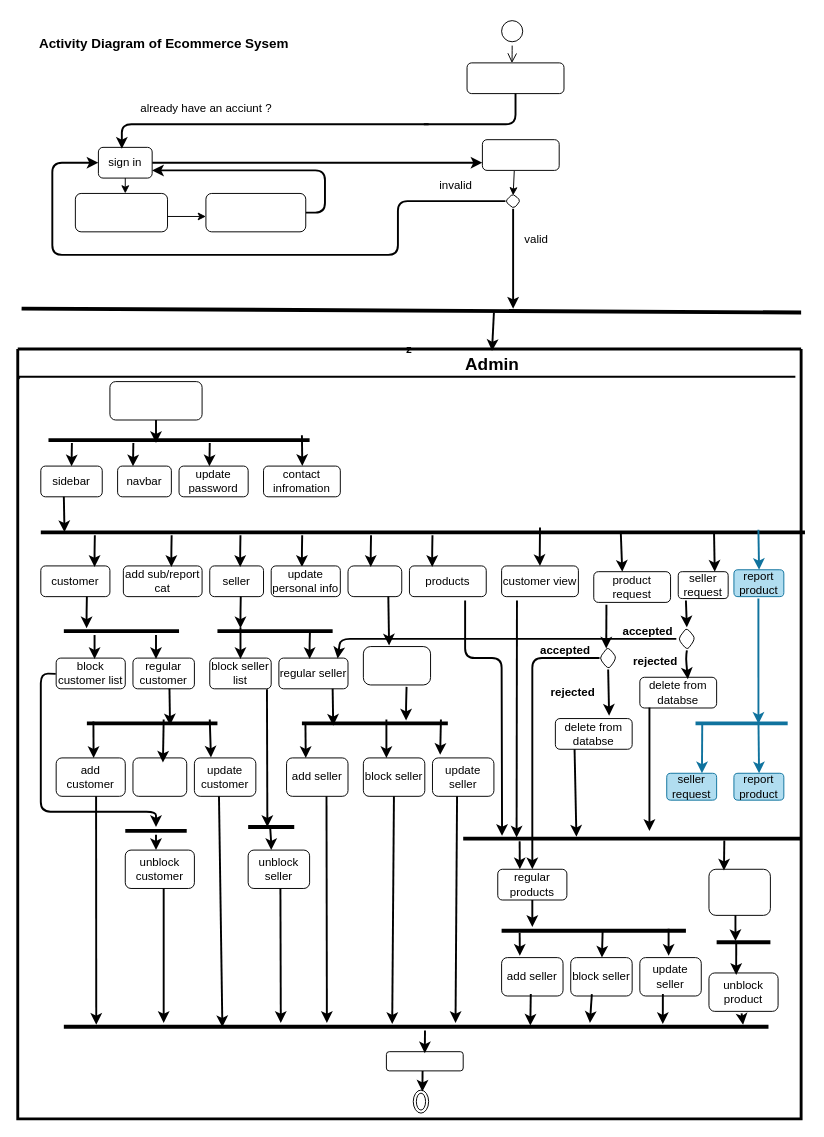
Some shapes in this 824 by 1137 pixel diagram are drawn without their labels. The box of each missing label's shape, as (x1, y1, x2, y2) in pixels:
add brand: (347, 565, 402, 597)
add report category: (362, 646, 431, 685)
Admin Home Page: (109, 381, 202, 420)
authentication: (481, 139, 559, 170)
block customer: (132, 757, 187, 796)
block products list: (708, 868, 770, 915)
change password: (205, 192, 306, 232)
Dashboard: (466, 62, 564, 94)
forgot password: (74, 192, 168, 232)
logout: (385, 1051, 463, 1071)
